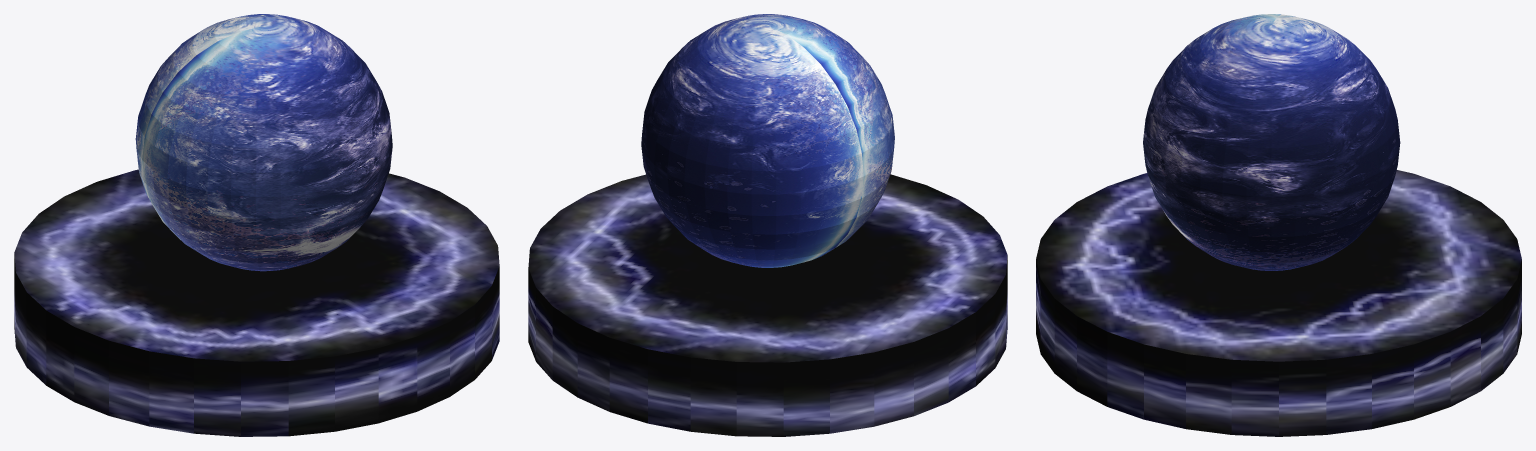
Rendered from paddle2Blue.obj.
3 views of the same model, side by side, from view 1: azimuth 30°, elevation 25°; view 2: azimuth 150°, elevation 25°; view 3: azimuth 270°, elevation 25° (orthographic).
Visible parts, largest first — view 1: Cylinder; view 2: Cylinder; view 3: Cylinder.
Part boxes in pixels (x1,y1,x2,y2): Cylinder: [14, 14, 499, 436]; Cylinder: [528, 14, 1007, 436]; Cylinder: [1036, 14, 1521, 436].
Bounding box in the file's own units: 2 × 1.41 × 2.
